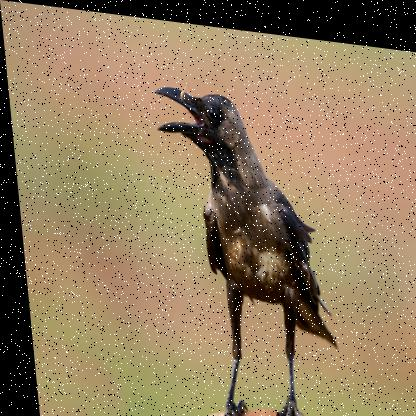Burung: (150, 79, 340, 415)
